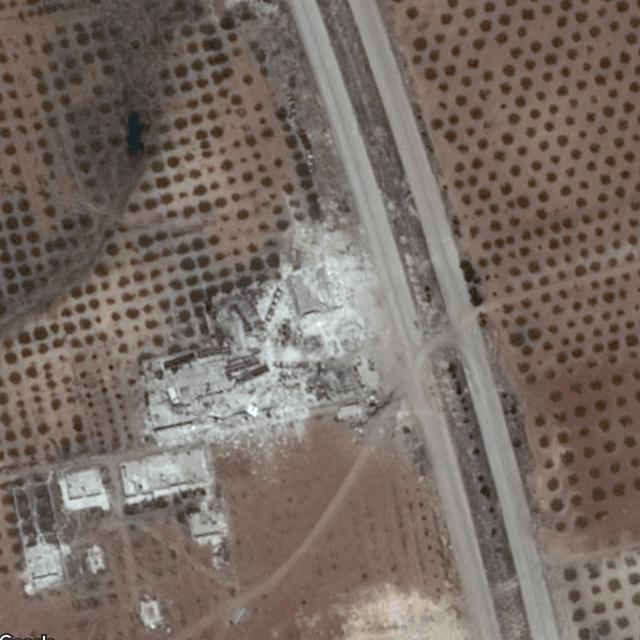damaged_building: (139, 218, 379, 451)
